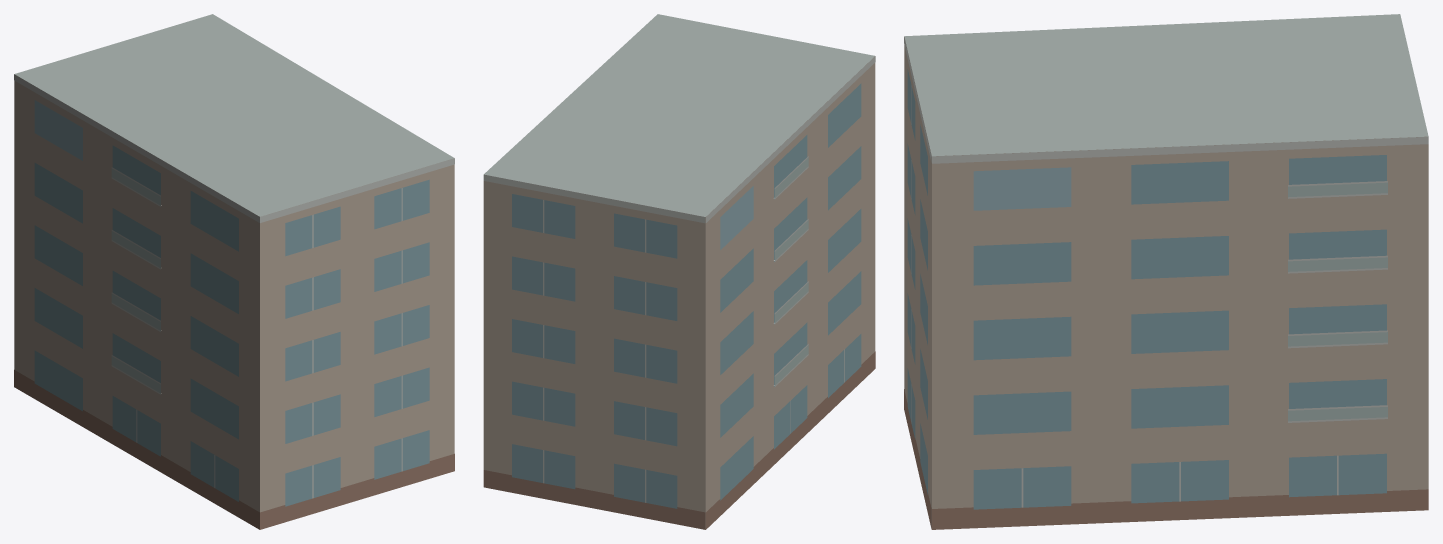
Rendered from survey-upis-32628157.glb.
3 renders of one model, left to right at view 1: azimuth 30°, elevation 25°; view 2: azimuth 150°, elevation 25°; view 3: azimuth 270°, elevation 25°, orthographic. The views are drawn at different scales.
Parts seen in each view (by area): view 1: survey-upis-32628157.tmp; view 2: survey-upis-32628157.tmp; view 3: survey-upis-32628157.tmp.
Part boxes in pixels (<box>): survey-upis-32628157.tmp: <box>14,14,454,529</box>; survey-upis-32628157.tmp: <box>483,14,875,529</box>; survey-upis-32628157.tmp: <box>904,14,1428,529</box>.
Bounding box in the file's own units: 9.89 × 12.1 × 15.4.
